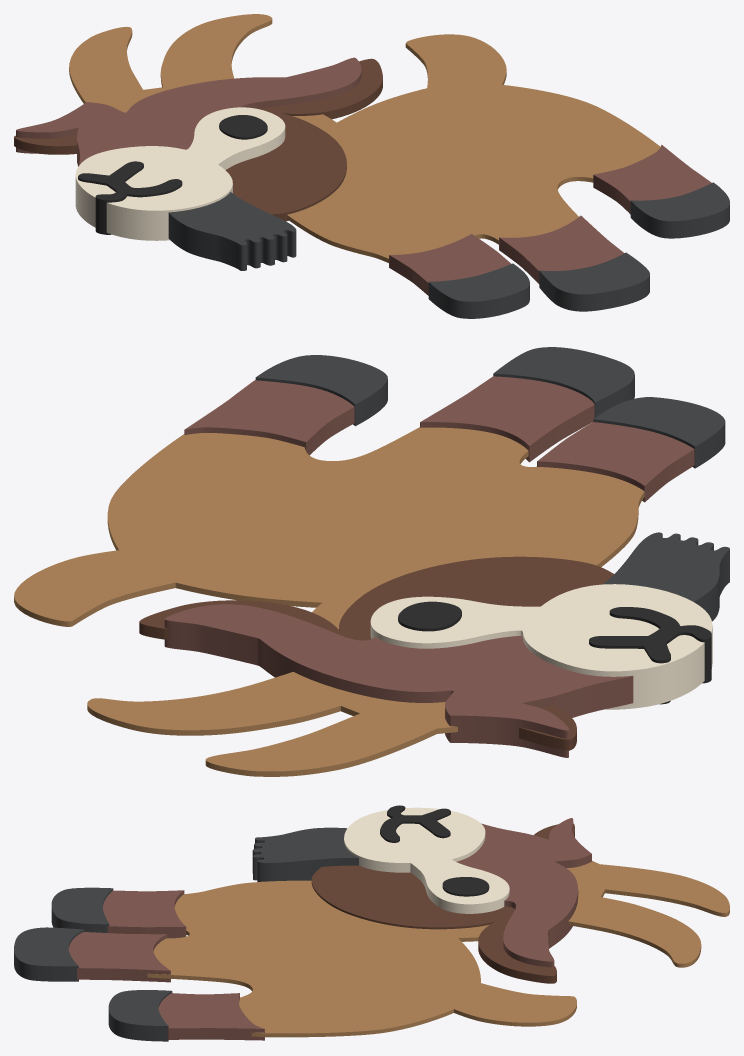
File: emoji_u1f410.glb
3 renders of one model, top to bottom at view 1: azimuth 30°, elevation 25°; view 2: azimuth 150°, elevation 25°; view 3: azimuth 270°, elevation 25°, orthographic. The views are drawn at different scales.
Parts seen in each view (by area): view 1: emoji_u1f410; view 2: emoji_u1f410; view 3: emoji_u1f410.
Boxes of the visible parts, x1,y1,x2,y2 form: emoji_u1f410: (14, 14, 729, 318); emoji_u1f410: (14, 347, 729, 776); emoji_u1f410: (14, 805, 729, 1041).
Size of the model in its own units: 0.0239 by 0.0016 by 0.0337.
